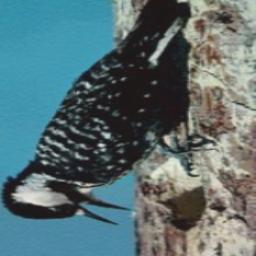Woodpecker: (0, 0, 219, 230)
